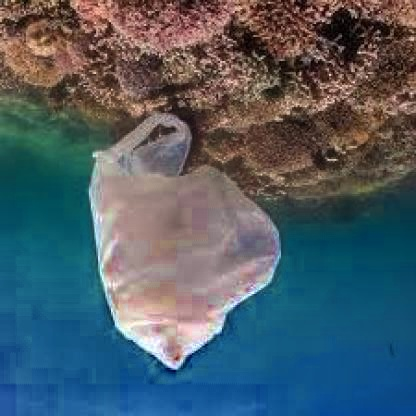pbag: (85, 113, 283, 372)
